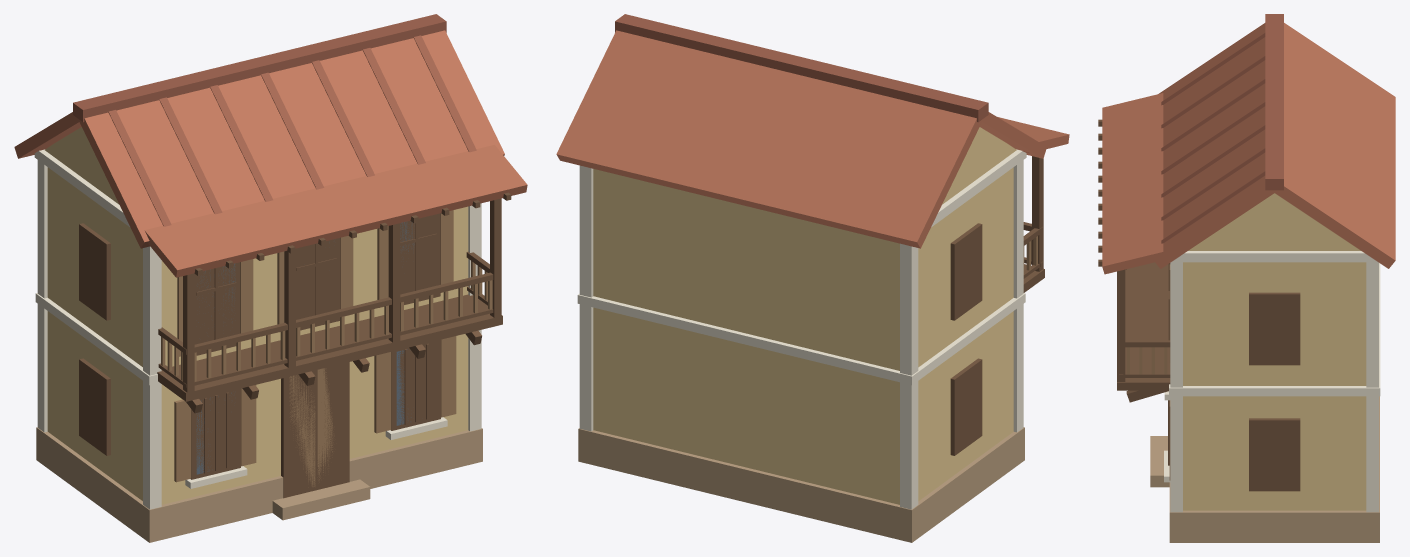
The model's file is OBS_N1_CasaEpoca_02.fbx.
The picture shows the model from 3 angles, left to right: view 1: azimuth 30°, elevation 25°; view 2: azimuth 150°, elevation 25°; view 3: azimuth 270°, elevation 25°; orthographic projection. The views are drawn at different scales.
Visible parts, largest first — view 1: OBS_N1_CasaEpoca_02; view 2: OBS_N1_CasaEpoca_02; view 3: OBS_N1_CasaEpoca_02.
Boxes of the visible parts, box(x1,y1,x2,y2) form: OBS_N1_CasaEpoca_02: box(14, 14, 527, 542); OBS_N1_CasaEpoca_02: box(556, 14, 1069, 542); OBS_N1_CasaEpoca_02: box(1098, 14, 1395, 542).
Bounding box in the file's own units: 8.72 × 9.14 × 6.64.
